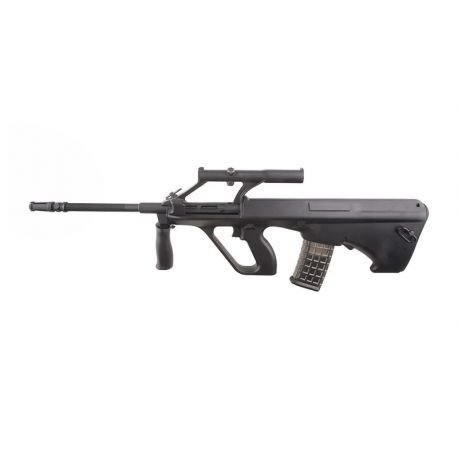Arma Real: (26, 168, 436, 298)
